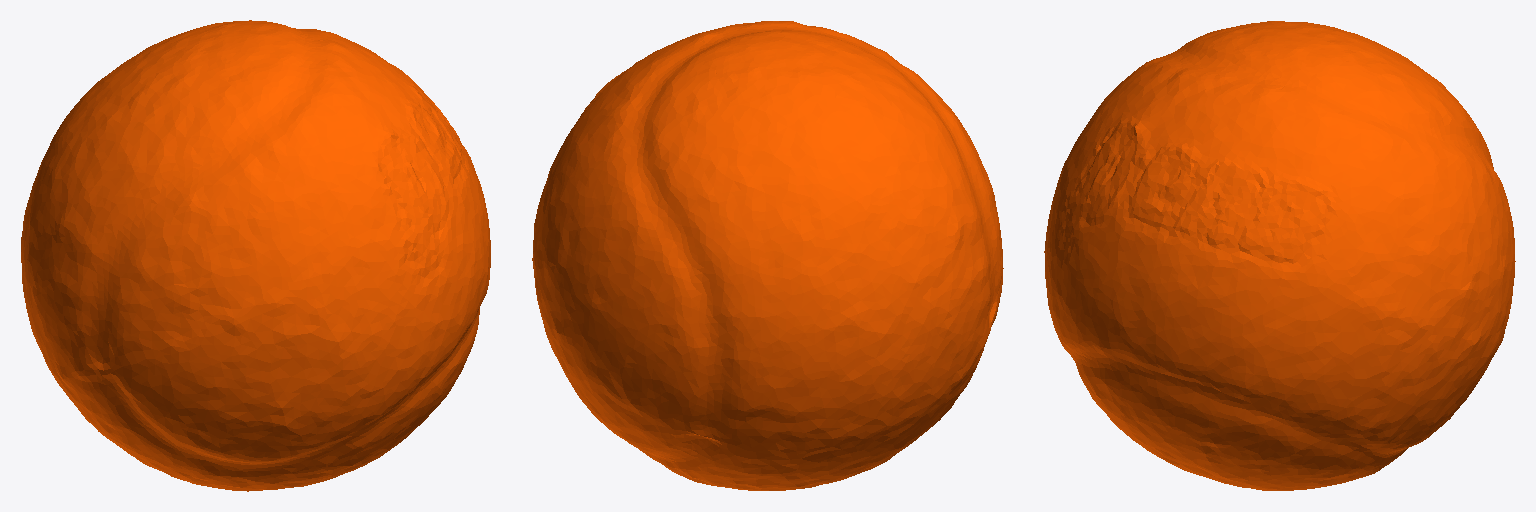
URDF robot description (056_tennis_ball):
<?xml version="1.0" ?>
<robot name="056_tennis_ball">
   <material name="obj_color">
      <color rgba="1.0 0.423529411765 0.0392156862745 1.0"/>
   </material>
   <link name="top">
      <inertial>
         <origin rpy="0.0001360759451888937 0.0001362396842254969 0.0001368105650138857" xyz="-0.001011660226020135 0.0009541450353171738 -0.003238209734684662"/>
         <mass value="0.305697999419516"/>
         <inertia ixx="0.0001362908494339388" ixy="1.000295761613016e-09" ixz="-2.965467143311963e-07" iyy="0.0001362267926327909" iyz="-1.378144847331006e-07" izz="0.0001366085523615465"/>
      </inertial>
      <visual>
         <origin rpy="0 0 0" xyz="0 0 0"/>
         <geometry>
            <mesh filename="top_watertight_tiny.stl" scale="1 1 1"/>
         </geometry>
         <material name="obj_color"/>
      </visual>
      <collision>
         <origin rpy="0 0 0" xyz="0 0 0"/>
         <geometry>
            <mesh filename="top_watertight_tiny.obj" scale="1 1 1"/>
         </geometry>
      </collision>
   </link>
   <link name="bottom">
      <inertial>
         <origin rpy="1.633333333199431e-08 1.633333333199431e-08 1.633333333362855e-08" xyz="0.3464080000000008 0.3464080000000008 0.3464080000000008"/>
         <mass value="0.0009800000000000017"/>
         <inertia ixx="1.633333333253906e-08" ixy="5.447480642029219e-19" ixz="5.447480642029219e-19" iyy="1.633333333253906e-08" iyz="5.447480642029219e-19" izz="1.633333333253906e-08"/>
      </inertial>
      <visual>
         <origin rpy="0 0 0" xyz="0 0 0"/>
         <geometry>
            <mesh filename="bottom_watertight_tiny.stl" scale="1 1 1"/>
         </geometry>
         <material name="obj_color"/>
      </visual>
   </link>
   <link name="world"/>
   <joint name="world_to_base" type="fixed">
      <origin xyz="0 0 0"/>
      <axis xyz="0 0 0"/>
      <parent link="world"/>
      <child link="bottom"/>
   </joint>
   <joint name="rotation" type="revolute">
      <origin xyz="0 0 0"/>
      <axis xyz="0 0 -1"/>
      <parent link="bottom"/>
      <child link="top"/>
      <dynamics damping="1.0" friction="1.0"/>
      <limit effort="0.1" velocity="0.1" lower="0" upper="0.001"/>
   </joint>
</robot>

--- Render facts (derived) ---
3 views of the same robot in one strip: view 1: azimuth 30°, elevation 25°; view 2: azimuth 150°, elevation 25°; view 3: azimuth 270°, elevation 25° (orthographic).
Model 056_tennis_ball with 3 links and 2 joints (1 revolute, 1 fixed), rooted at world, posed every joint at zero.
Links seen in each view (by area): view 1: top; view 2: top; view 3: top.
Boxes of the visible links, x1,y1,x2,y2 form: top: [21, 20, 490, 491]; top: [532, 21, 1003, 490]; top: [1044, 21, 1515, 490].
Size in the robot's own frame: 0.067 by 0.067 by 0.0665 metres.
Meshes: 2 distinct files referenced, 1 mesh visuals loaded (1 binary STL); not drawn: 1 (reference not matched to a file when rendering).
